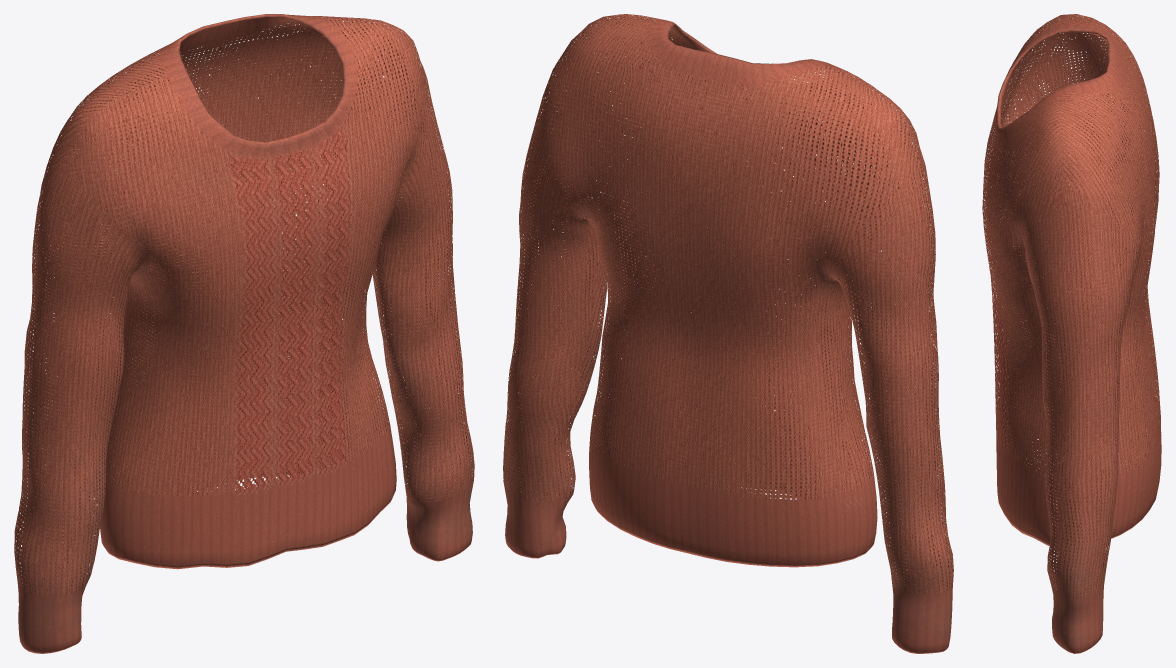
The model's file is sweater_pack.glb.
The picture shows the model from 3 angles, left to right: view 1: azimuth 30°, elevation 25°; view 2: azimuth 150°, elevation 25°; view 3: azimuth 270°, elevation 25°; orthographic projection. The views are drawn at different scales.
Parts seen in each view (by area): view 1: SweaterFemale; view 2: SweaterFemale; view 3: SweaterFemale.
Boxes of the visible parts, x1=… form: SweaterFemale: x1=14, y1=14, x2=474, y2=653; SweaterFemale: x1=503, y1=14, x2=953, y2=653; SweaterFemale: x1=982, y1=14, x2=1161, y2=653.
Size of the model in its own units: 0.508 by 0.6053 by 0.1952.
1 material, 1 textured.
